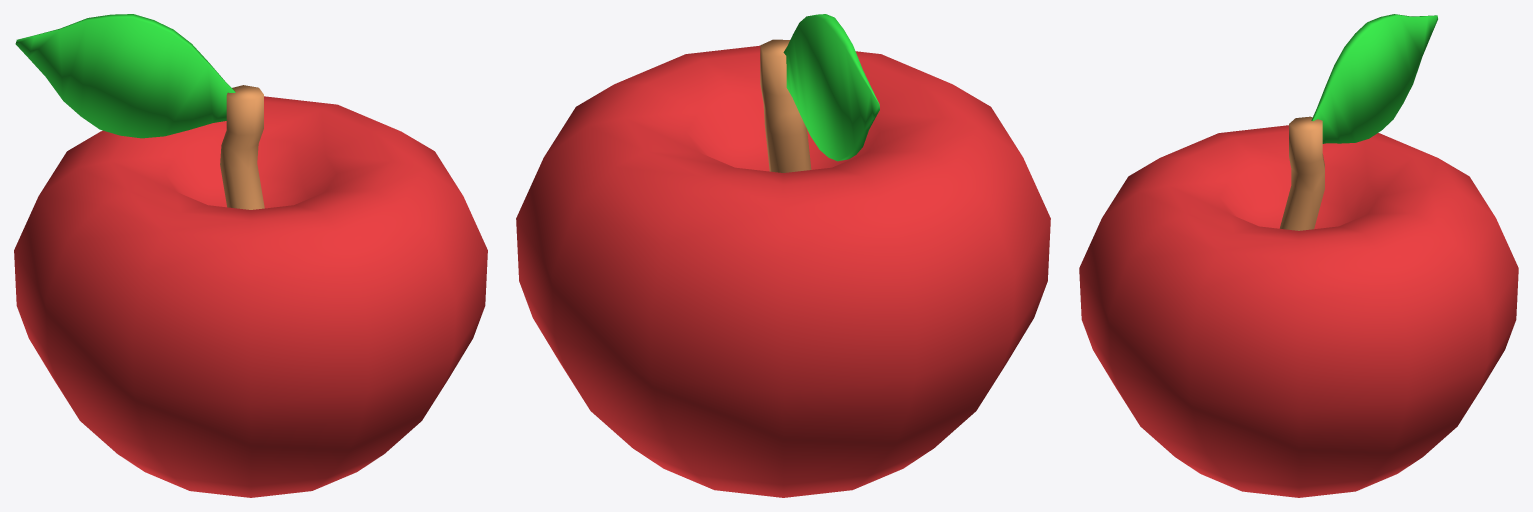
The model's file is Apple.fbx.
3 renders of one model, left to right at view 1: azimuth 30°, elevation 25°; view 2: azimuth 150°, elevation 25°; view 3: azimuth 270°, elevation 25°, orthographic. The views are drawn at different scales.
Visible parts, largest first — view 1: Apple_Leaf; view 2: Apple_Leaf; view 3: Apple_Leaf.
Part boxes in pixels (x1,y1,x2,y2): Apple_Leaf: (14, 14, 487, 497); Apple_Leaf: (516, 14, 1050, 497); Apple_Leaf: (1079, 14, 1518, 497).
Size of the model in its own units: 198 by 194 by 198.
